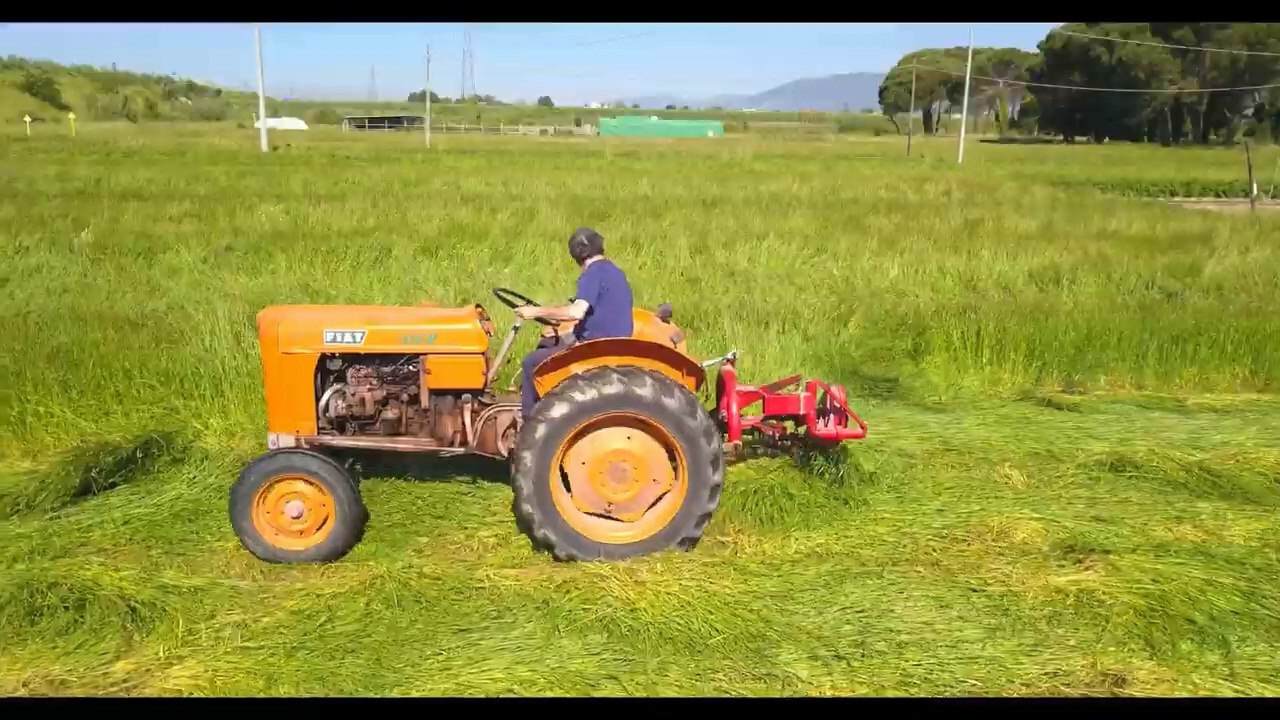insan: (516, 226, 632, 440)
traktor: (229, 278, 725, 569)
